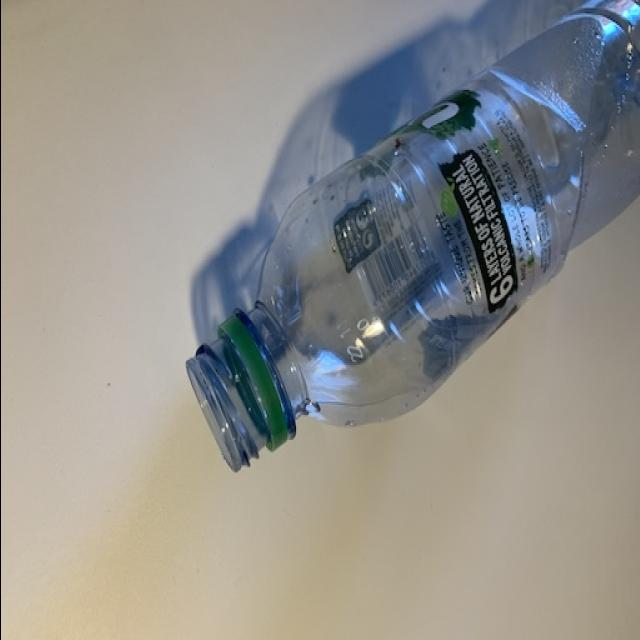litter: (179, 0, 640, 470)
